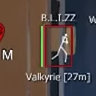hacks_3: (27, 13, 90, 83)
